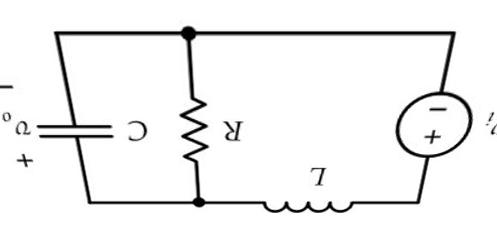resistor: (173, 86, 216, 179)
